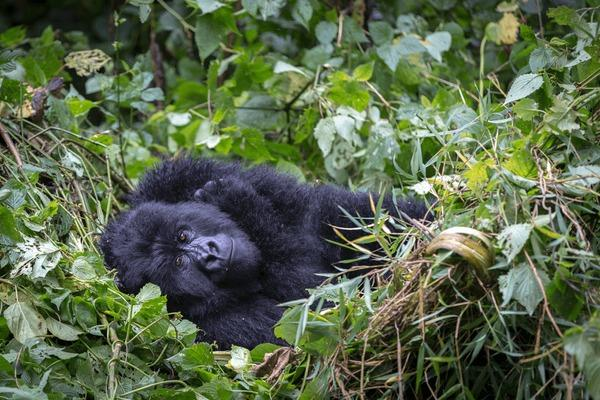goriile_montagne: (94, 134, 384, 339)
